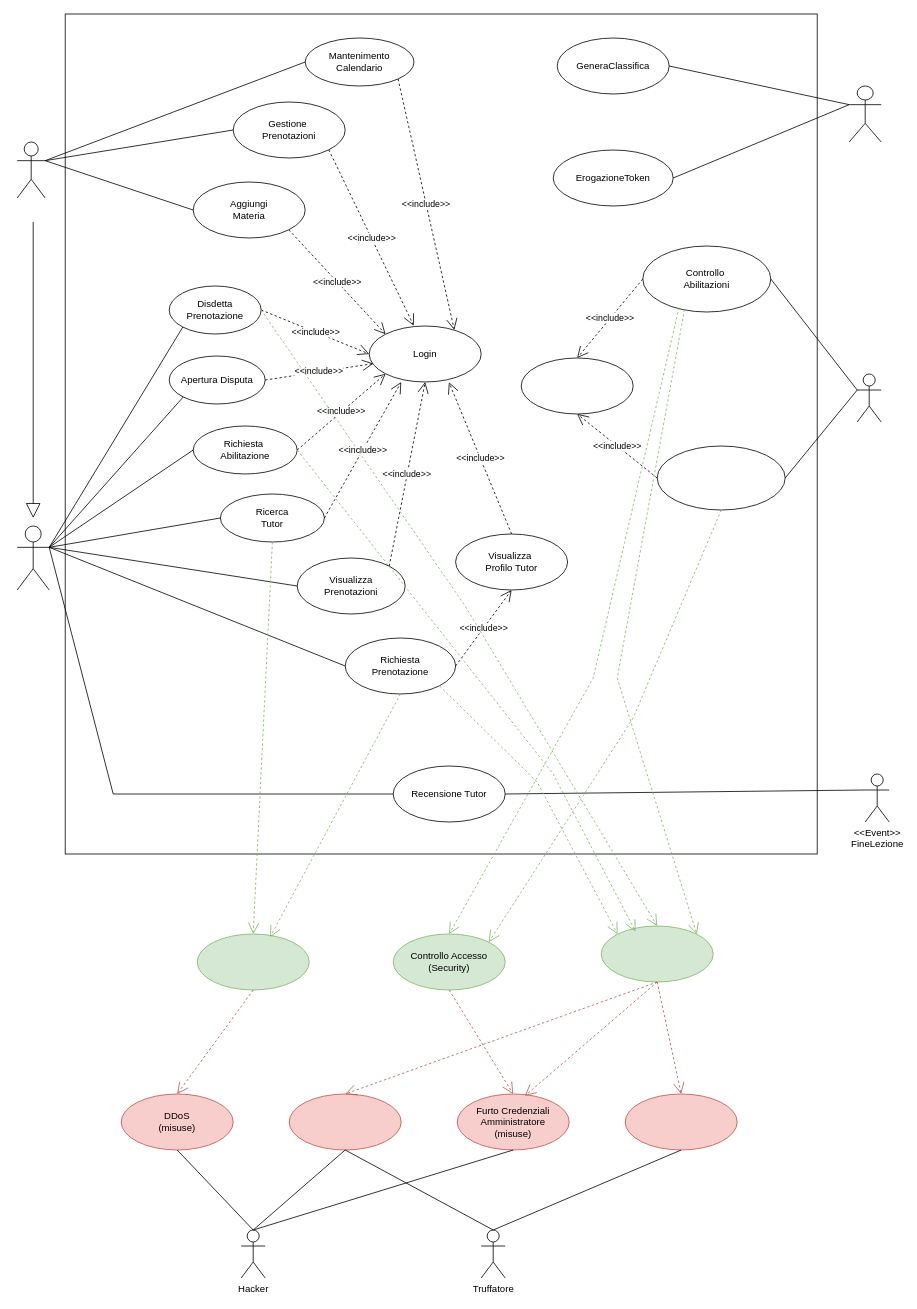
Image size: 917x1309. Some labels were removed from this diagram. Each missing label, with the centre of its shape:
"<<Event>> FineMese" goes at point 864,113.
"Amministratore" goes at point 868,397.
"Disponibilità (Security)" goes at point 252,961.
"Falsificazione Documenti (misuse)" goes at point 680,1121.
"Gestione Dispute" goes at point 720,477.
"Integrità (Security)" goes at point 656,953.
"Login Amministratore" goes at point 576,385.
"Sniffing Informazioni (misuse)" goes at point 344,1121.
"Studente" goes at point 32,557.
"Tutor" goes at point 30,169.
